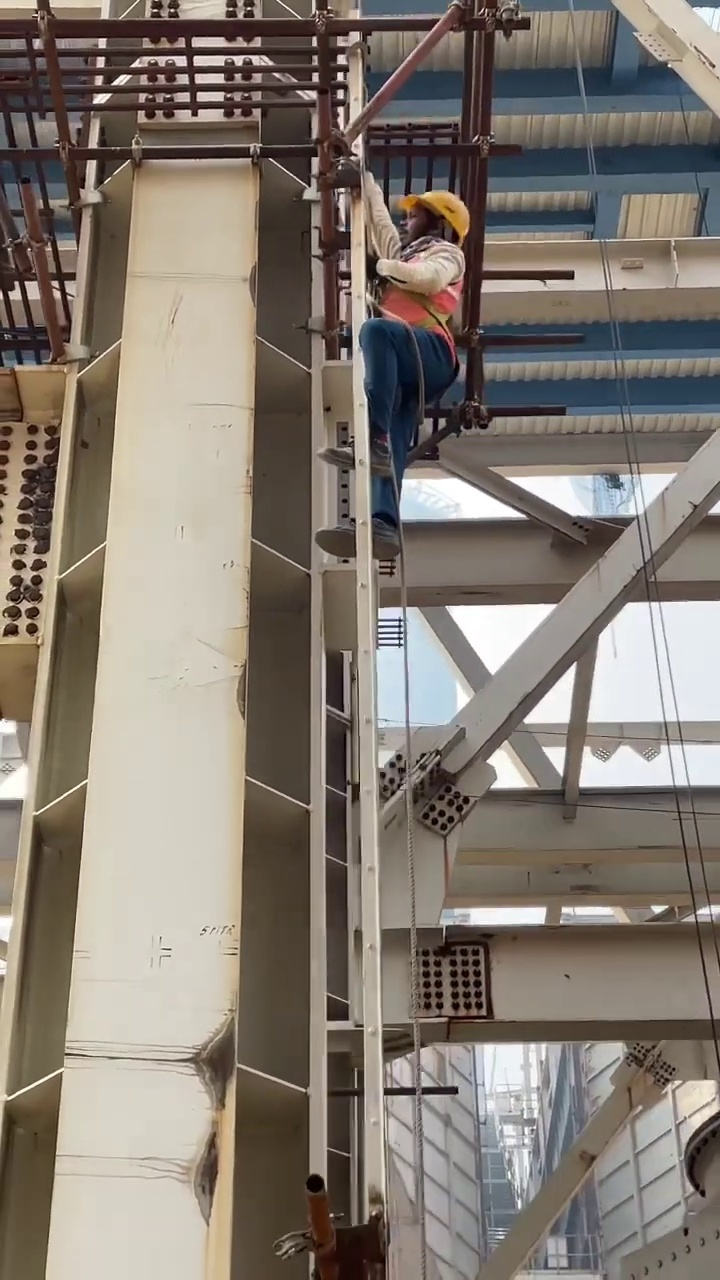Helmet: (405, 186, 471, 231)
Person: (309, 187, 474, 572)
Safety_Harness: (378, 245, 471, 417)
Safety_shoes: (314, 518, 401, 564), (323, 434, 395, 475)
